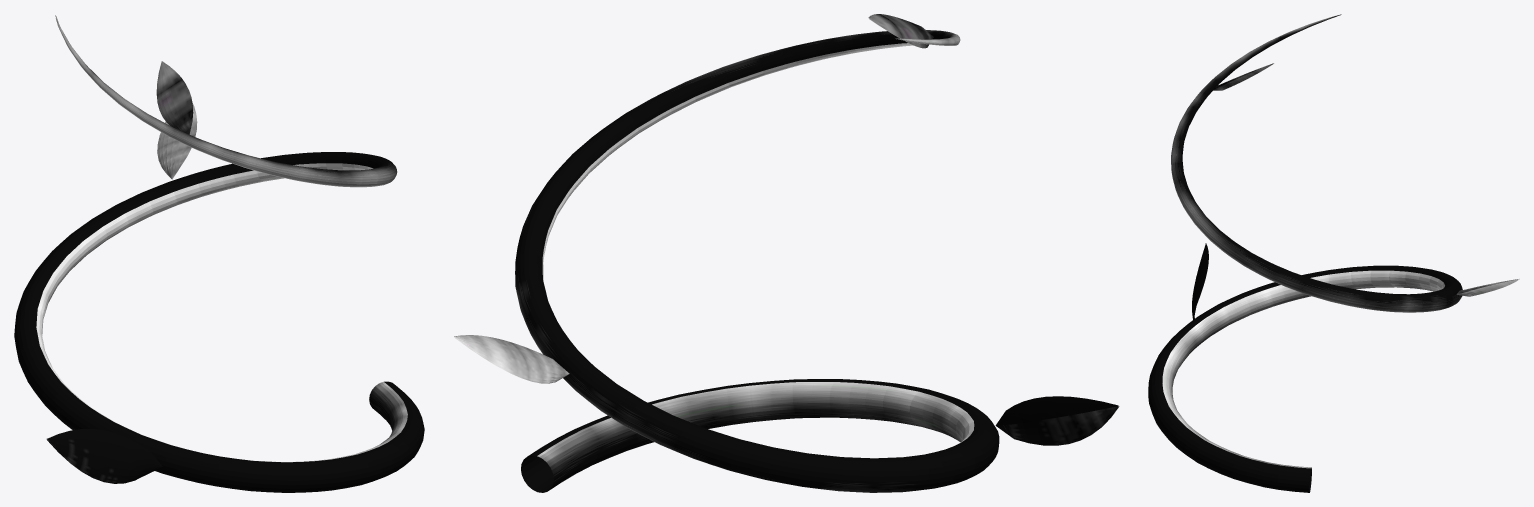
The picture shows the model from 3 angles, left to right: view 1: azimuth 30°, elevation 25°; view 2: azimuth 150°, elevation 25°; view 3: azimuth 270°, elevation 25°; orthographic projection. The views are drawn at different scales.
Size of the model in its own units: 2.1 by 2.2 by 2.06.
1 material, 1 textured.
